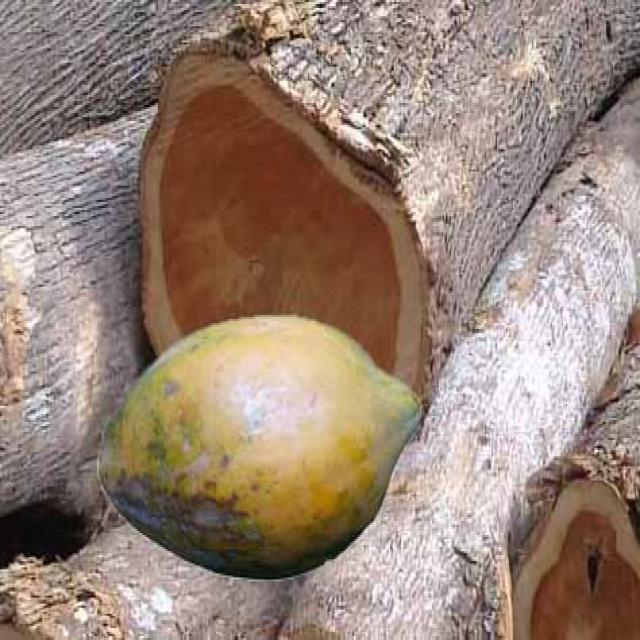Pepaya rippen: (100, 317, 429, 579)
